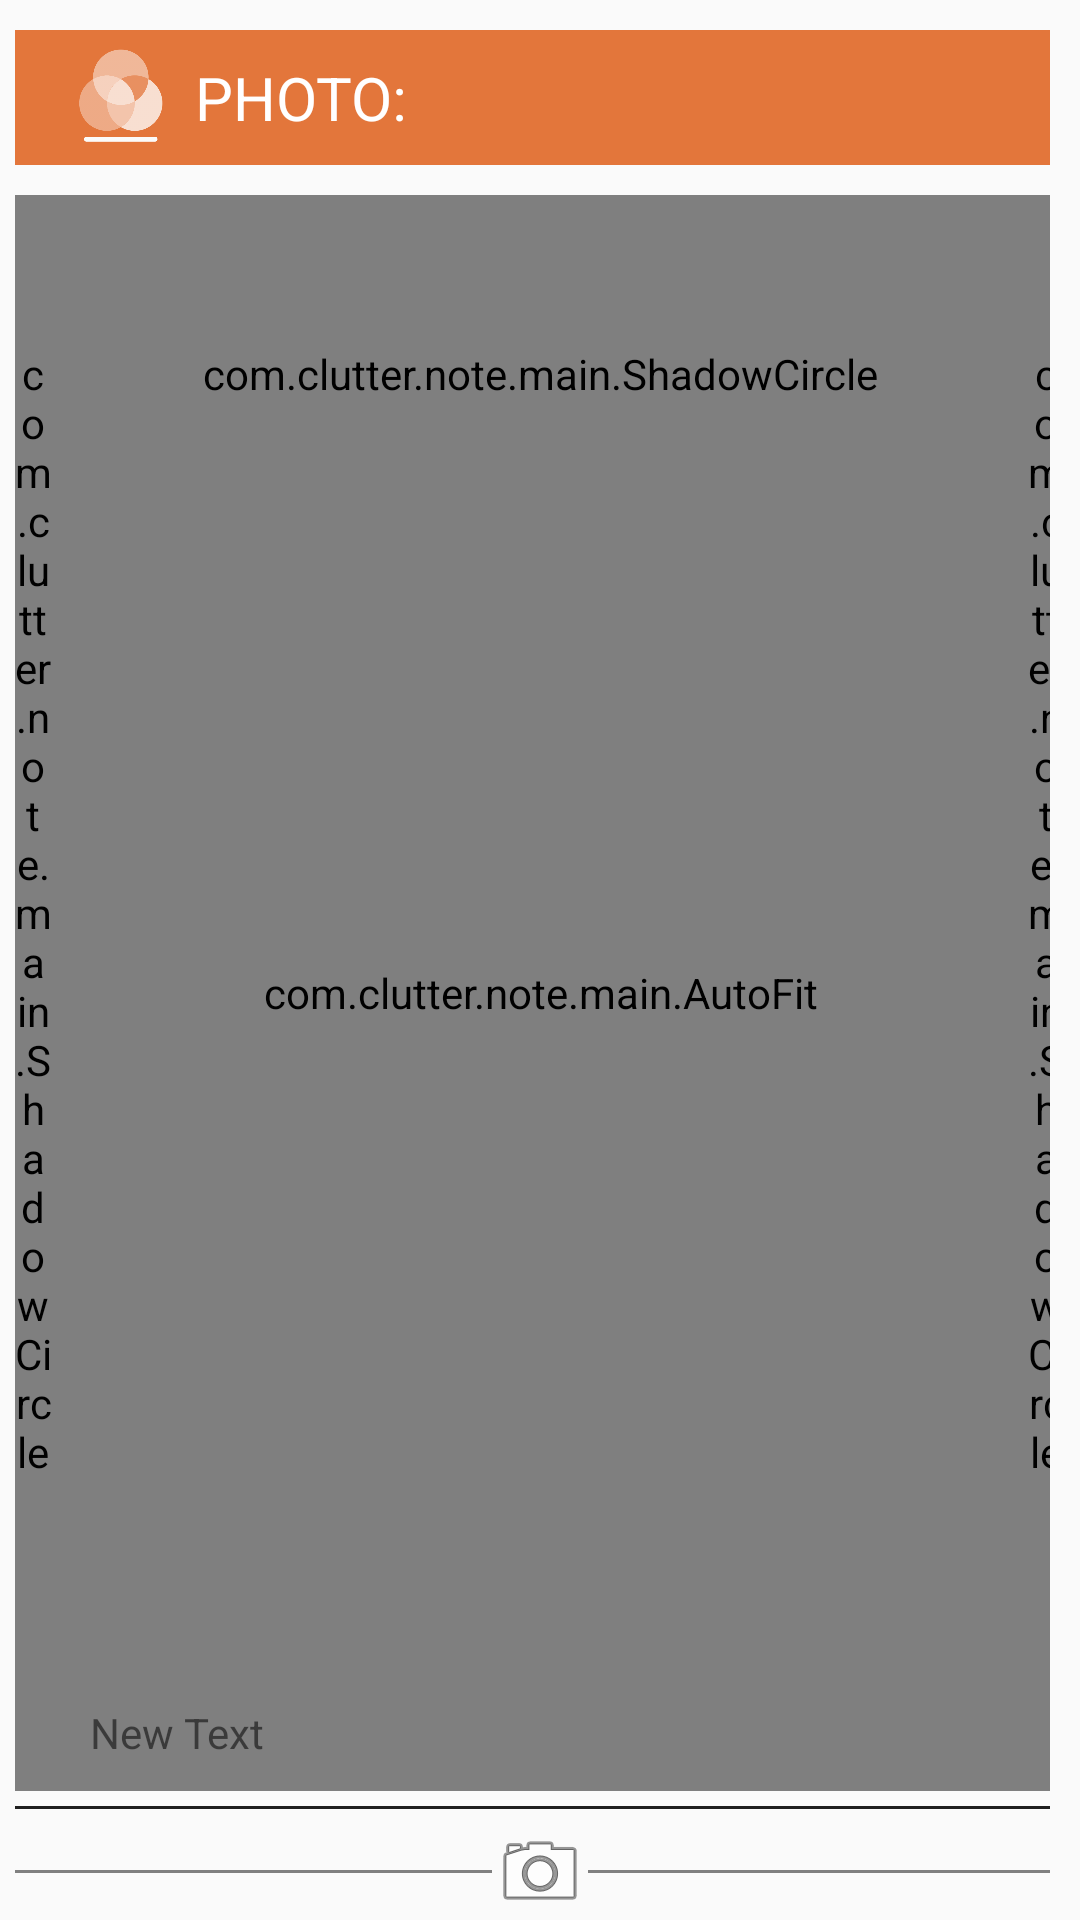

Icon bounding boxes for this 1080 x 1920 phone screenshot, format (x1, y1, x2, y2):
camera: (503, 1841, 577, 1900)
